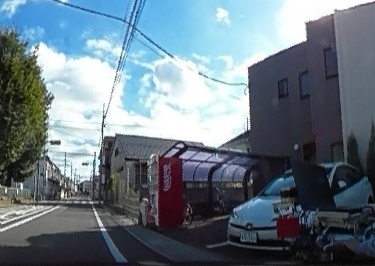person: (330, 79, 375, 262)
